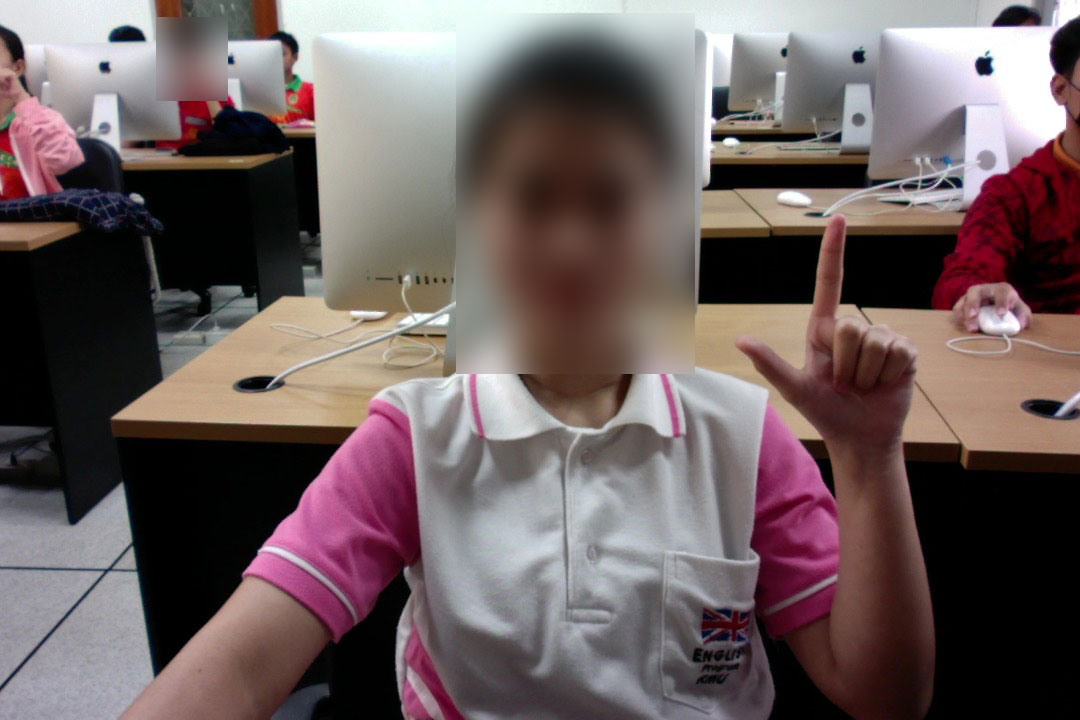lor: (724, 203, 930, 467)
